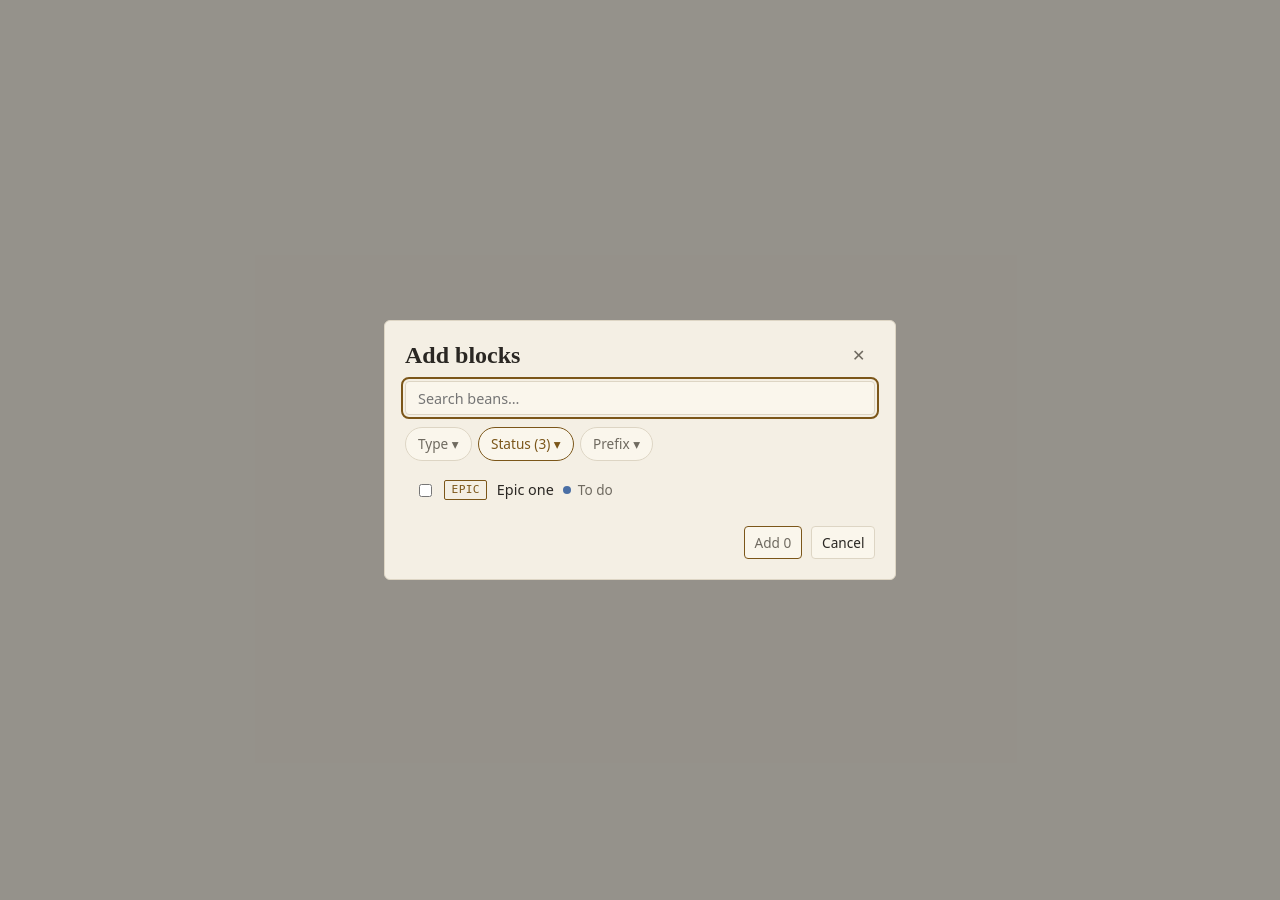
Test: BeanPicker › unchecks a candidate that was already selected
Click the checkbox named "Select Epic one": (425, 490) [419,484,432,497]
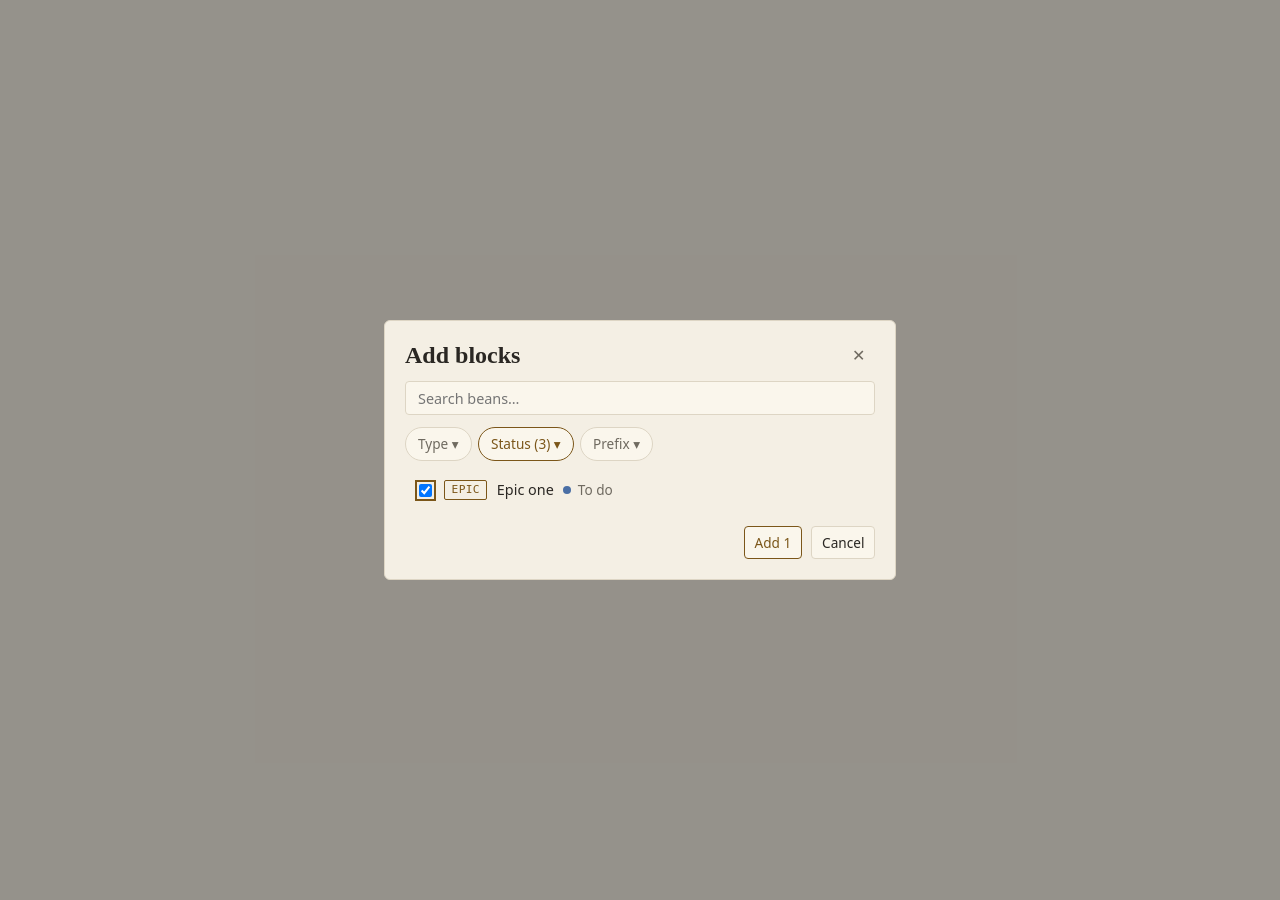
Now the checkbox named "Select Epic one" is checked
Click the checkbox named "Select Epic one": (425, 490) [419,484,432,497]
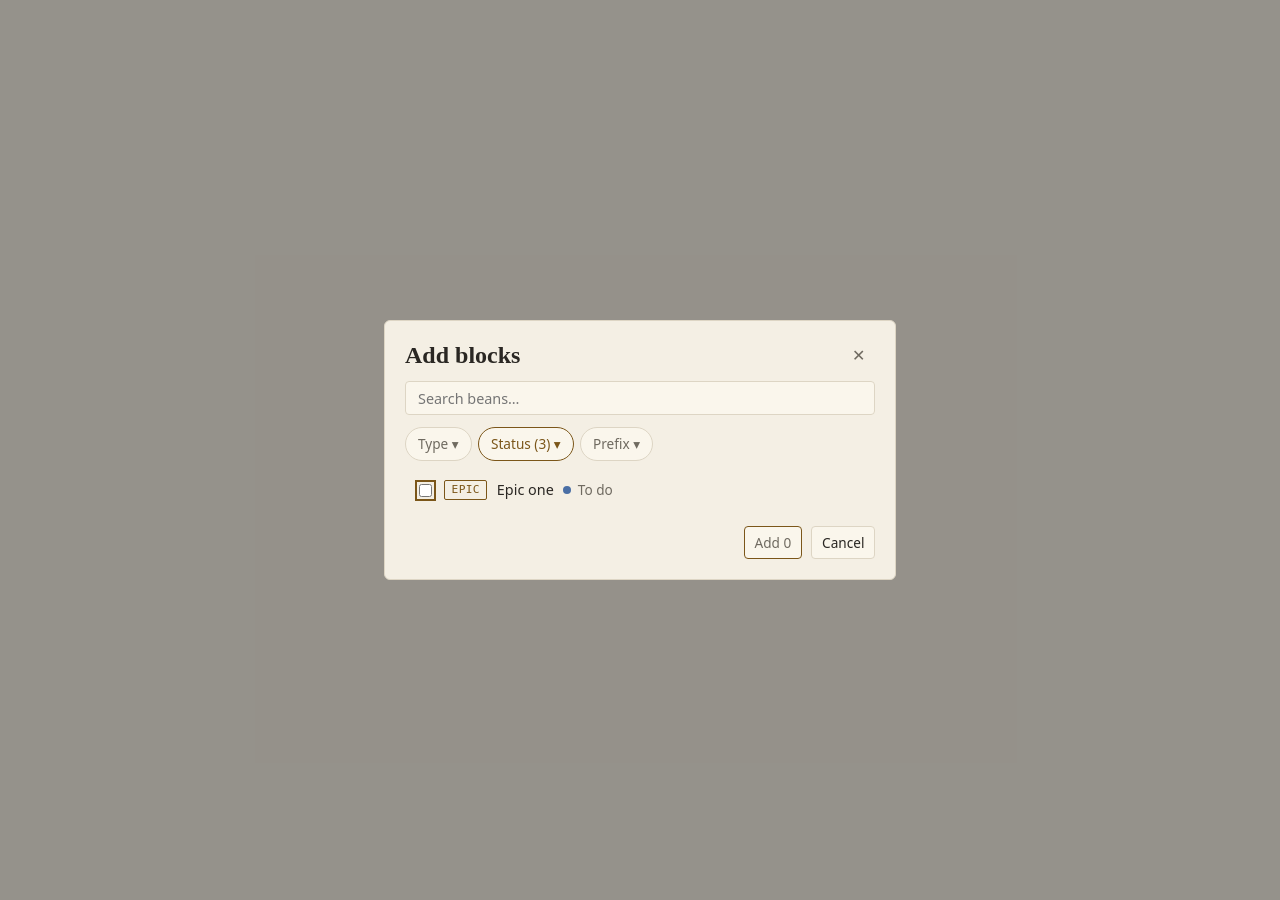
Now the checkbox named "Select Epic one" is not checked, box [419,484,432,497]
Now the button "Add 0" is disabled, box [744,526,802,560]
